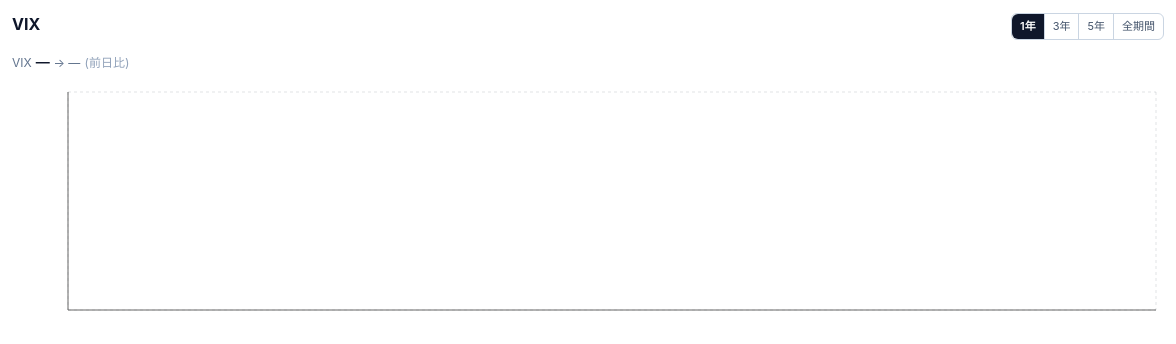
Test: MacroChart のチャート単位の期間上書き (#299) › チャート単位で「全期間」を選ぶと、グローバルの期間を上書きして表示する
Click the button "全期間": (1138, 26) left=1114, top=14, right=1163, bottom=38
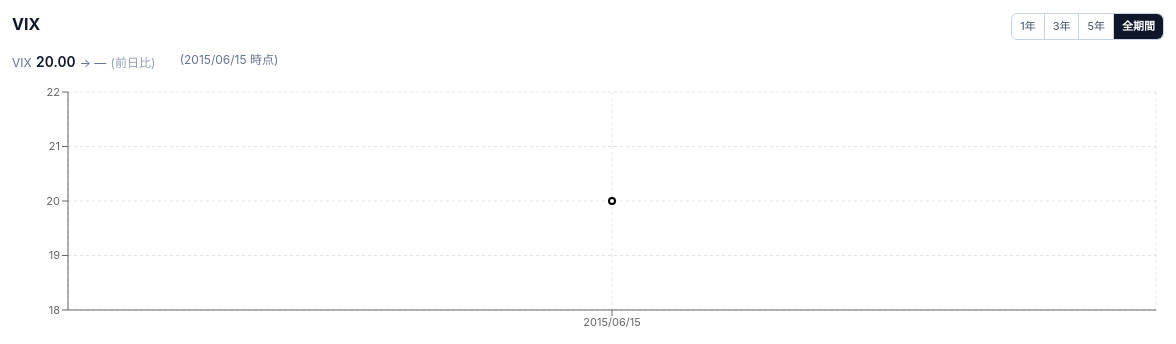
Expected: the text "2015/06/15" is shown, left=184, top=52, right=247, bottom=66
